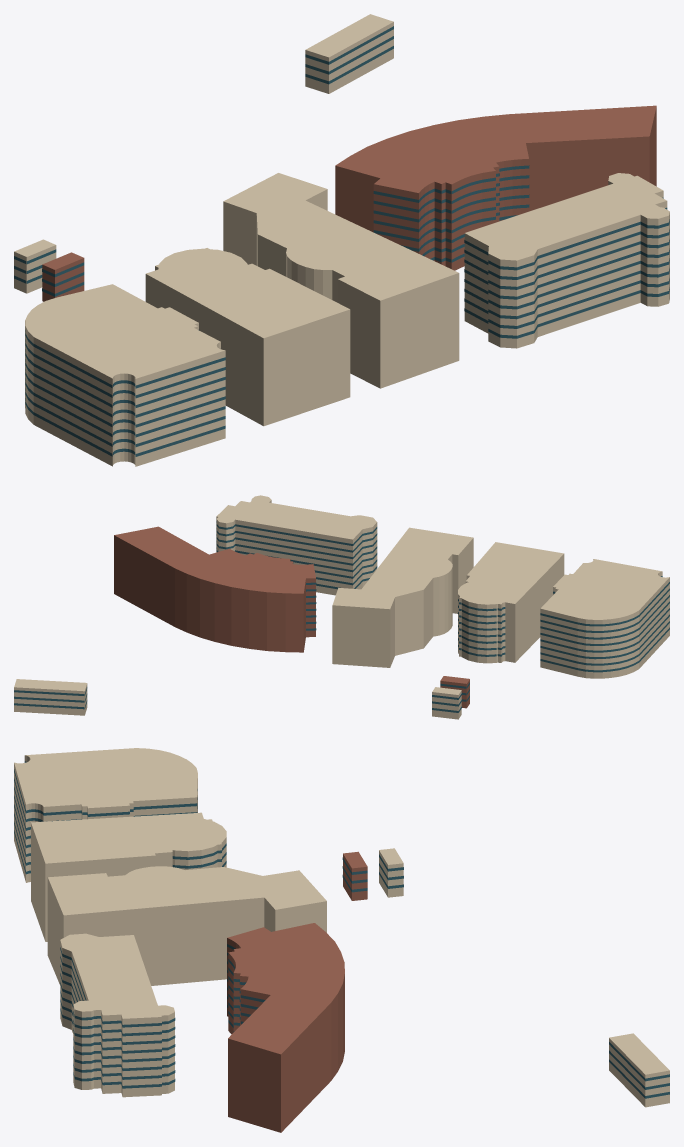
File: city_9_-3.glb
The picture shows the model from 3 angles, top to bottom: view 1: azimuth 30°, elevation 25°; view 2: azimuth 150°, elevation 25°; view 3: azimuth 270°, elevation 25°; orthographic projection. The views are drawn at different scales.
Visible parts, largest first — view 1: city_9_-3; view 2: city_9_-3; view 3: city_9_-3.
Part boxes in pixels (x1,y1,x2,y2): city_9_-3: (14, 14, 669, 466); city_9_-3: (14, 495, 669, 719); city_9_-3: (14, 748, 669, 1132).
Size of the model in its own units: 302 by 36 by 273.
